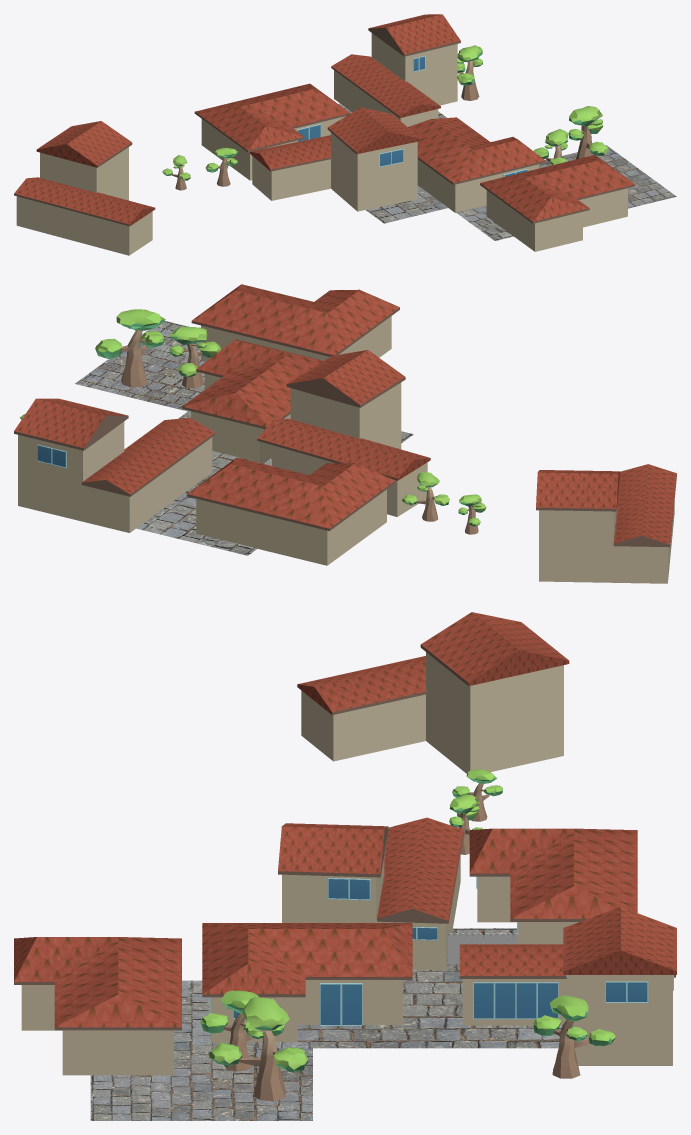
File: background neighborhood.fbx
The picture shows the model from 3 angles, top to bottom: view 1: azimuth 30°, elevation 25°; view 2: azimuth 150°, elevation 25°; view 3: azimuth 270°, elevation 25°; orthographic projection. The views are drawn at different scales.
Visible parts, largest first — view 1: house2_2, house2_1, house2, house_1, house_1_roof_2, house_1_roof, house_1_2, Plane_2, house_1_1, tree_4, Plane_1, tree_2 (+3 smaller); view 2: house2, house2_2, house2_1, house_1, house_1_roof_2, house_1_roof, house_1_1, Plane_2, Plane_1, tree_4, house_1_2, tree_3 (+3 smaller); view 3: house2_2, house2, house2_1, house_1, house_1_roof, Plane_2, house_1_roof_2, Plane_1, house_1_2, tree_4, house_1_1, tree_2 (+9 smaller).
Boxes of the visible parts, x1,y1,x2,y2 form: house2_2: [14, 121, 155, 255]; house2_1: [250, 107, 420, 211]; house2: [331, 14, 460, 126]; house_1: [408, 117, 545, 212]; house_1_roof_2: [195, 83, 349, 150]; house_1_roof: [480, 155, 634, 221]; house_1_2: [480, 183, 635, 251]; Plane_2: [456, 145, 676, 240]; house_1_1: [194, 112, 350, 180]; tree_4: [568, 106, 608, 159]; Plane_1: [338, 103, 447, 223]; tree_2: [457, 45, 482, 100]; house2: [14, 398, 215, 532]; house2_2: [536, 464, 676, 583]; house2_1: [257, 350, 430, 516]; house_1: [182, 339, 323, 462]; house_1_roof_2: [187, 457, 395, 528]; house_1_roof: [192, 284, 399, 355]; house_1_1: [187, 481, 395, 565]; Plane_2: [75, 320, 205, 411]; Plane_1: [136, 411, 413, 555]; tree_4: [95, 309, 165, 387]; house_1_2: [191, 307, 399, 361]; tree_3: [169, 326, 220, 388]; house2_2: [297, 612, 569, 773]; house2: [459, 907, 676, 1065]; house2_1: [278, 817, 463, 970]; house_1: [202, 923, 412, 1042]; house_1_roof: [14, 937, 181, 1027]; Plane_2: [90, 980, 312, 1120]; house_1_roof_2: [469, 828, 637, 918]; Plane_1: [246, 928, 562, 1048]; house_1_2: [14, 982, 181, 1075]; tree_4: [208, 996, 307, 1101]; house_1_1: [469, 873, 586, 944]; tree_2: [533, 995, 615, 1078].
Bounding box in the file's own units: 39600 × 6028 × 26841.
